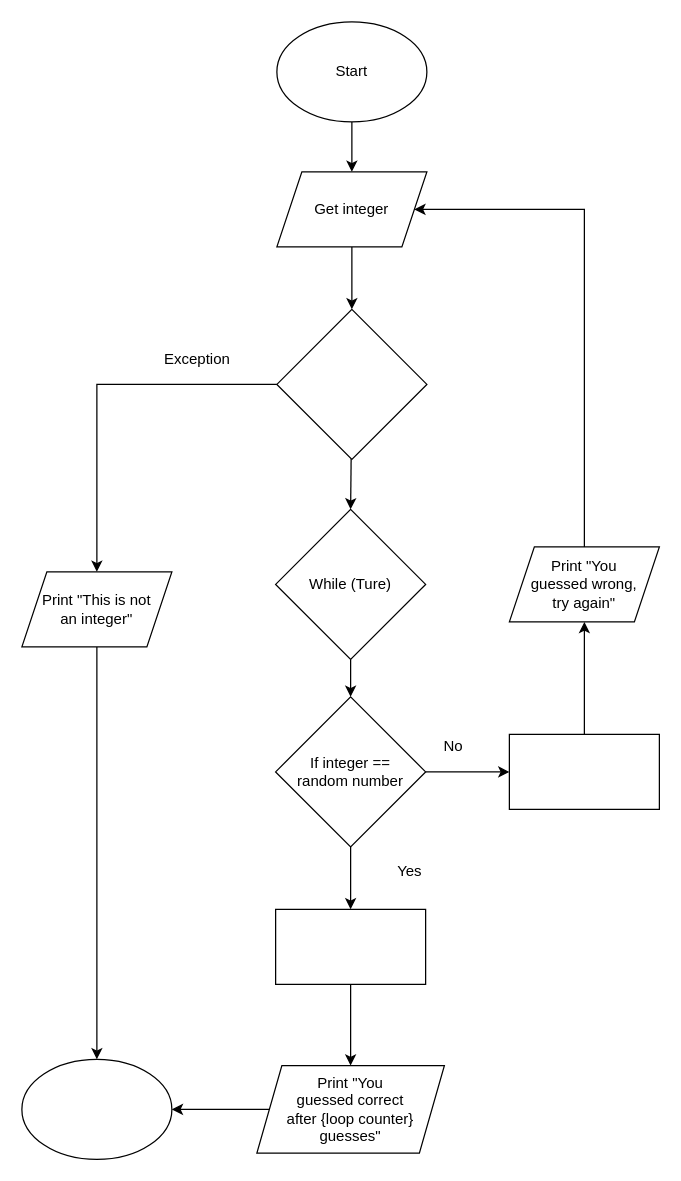
Image size: 681x1181. Some labels were removed from this diagram. The shapes that lost their labels are listed below. From the top down, each one's centre as x and y in pixels, then its label:
point 351,383: Try
point 583,771: loop counter == loop counter + 1
point 350,946: Break
point 96,1108: Stop
